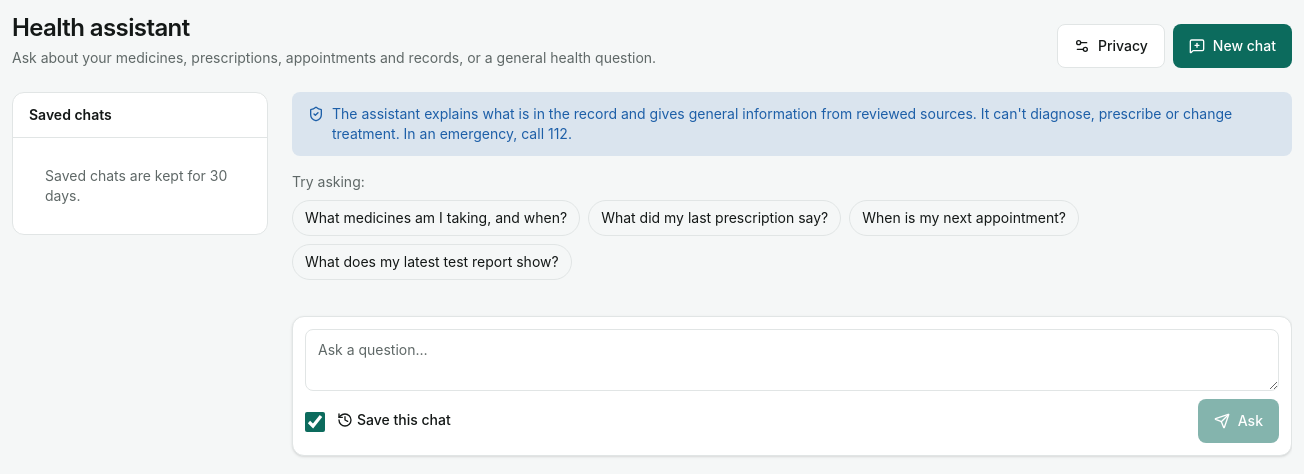
Test case: AssistantPage › shows errors without losing the question
Type "Anything" into the text box named "Your question" at (792, 360), box x1=305 y1=329 x2=1279 y2=391
Then press Enter
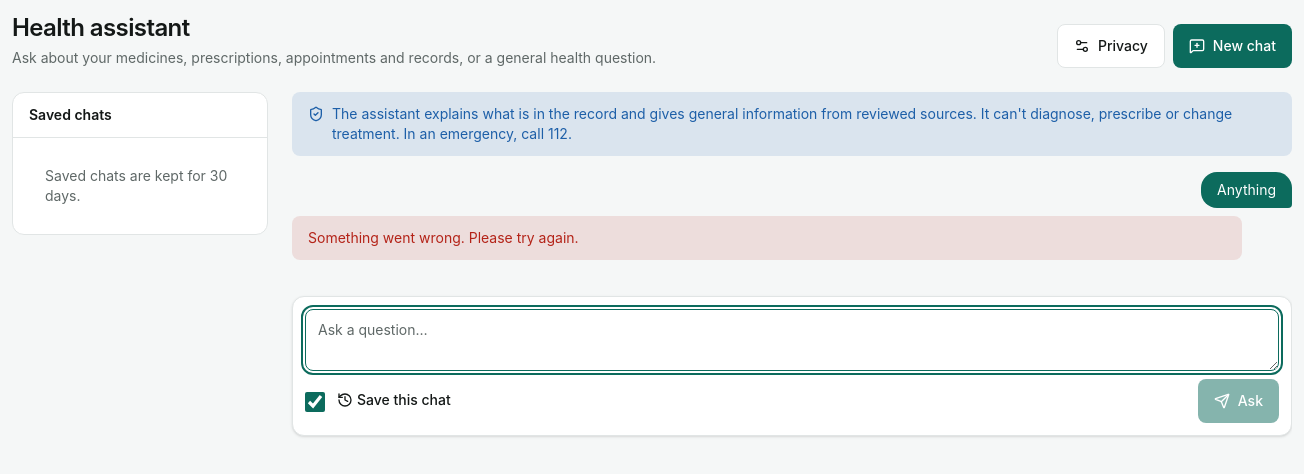
Expected: the text "Anything" is shown, x1=1201 y1=172 x2=1292 y2=208
Expected: the message "Something went wrong. Please try again." is shown, x1=292 y1=216 x2=1242 y2=260
